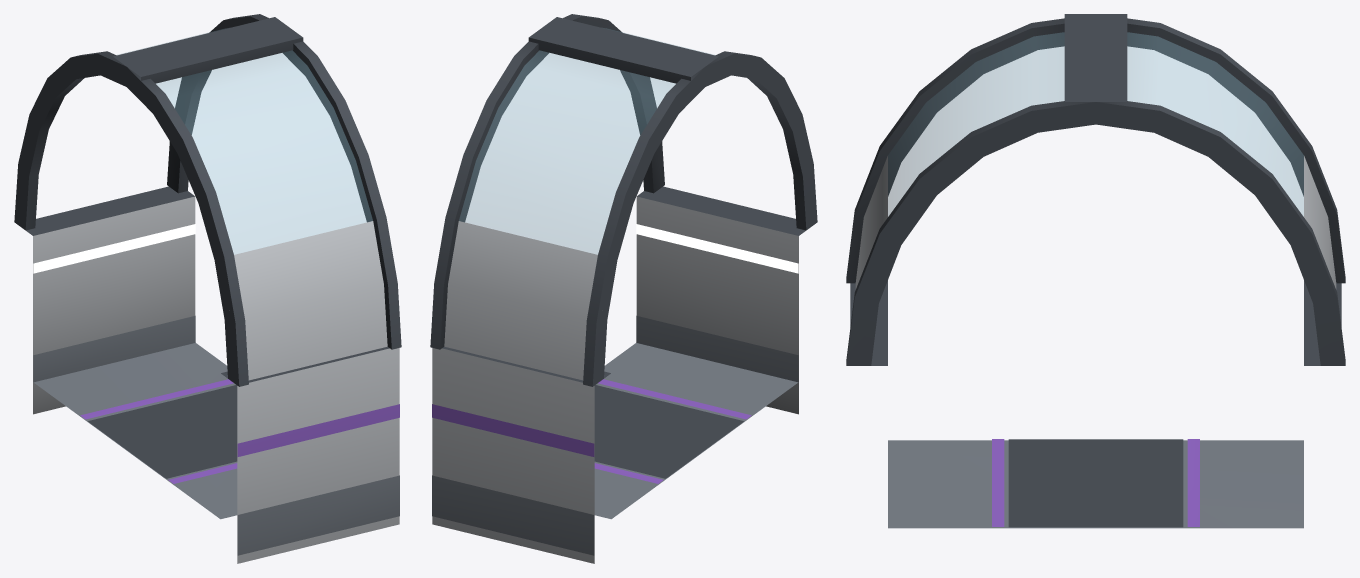
The model's file is corridor.glb.
3 views of the same model, side by side, from view 1: azimuth 30°, elevation 25°; view 2: azimuth 150°, elevation 25°; view 3: azimuth 270°, elevation 25° (orthographic). The views are drawn at different scales.
Parts seen in each view (by area): view 1: Base, Roof; view 2: Base, Roof; view 3: Roof, Base.
Part boxes in pixels (x1,y1,x2,y2): Base: (26, 186, 399, 563); Roof: (14, 14, 401, 386); Base: (432, 186, 805, 563); Roof: (430, 14, 817, 386); Roof: (846, 14, 1345, 365); Base: (850, 280, 1341, 528).
Size of the model in its own units: 1 by 2.45 by 2.4.
